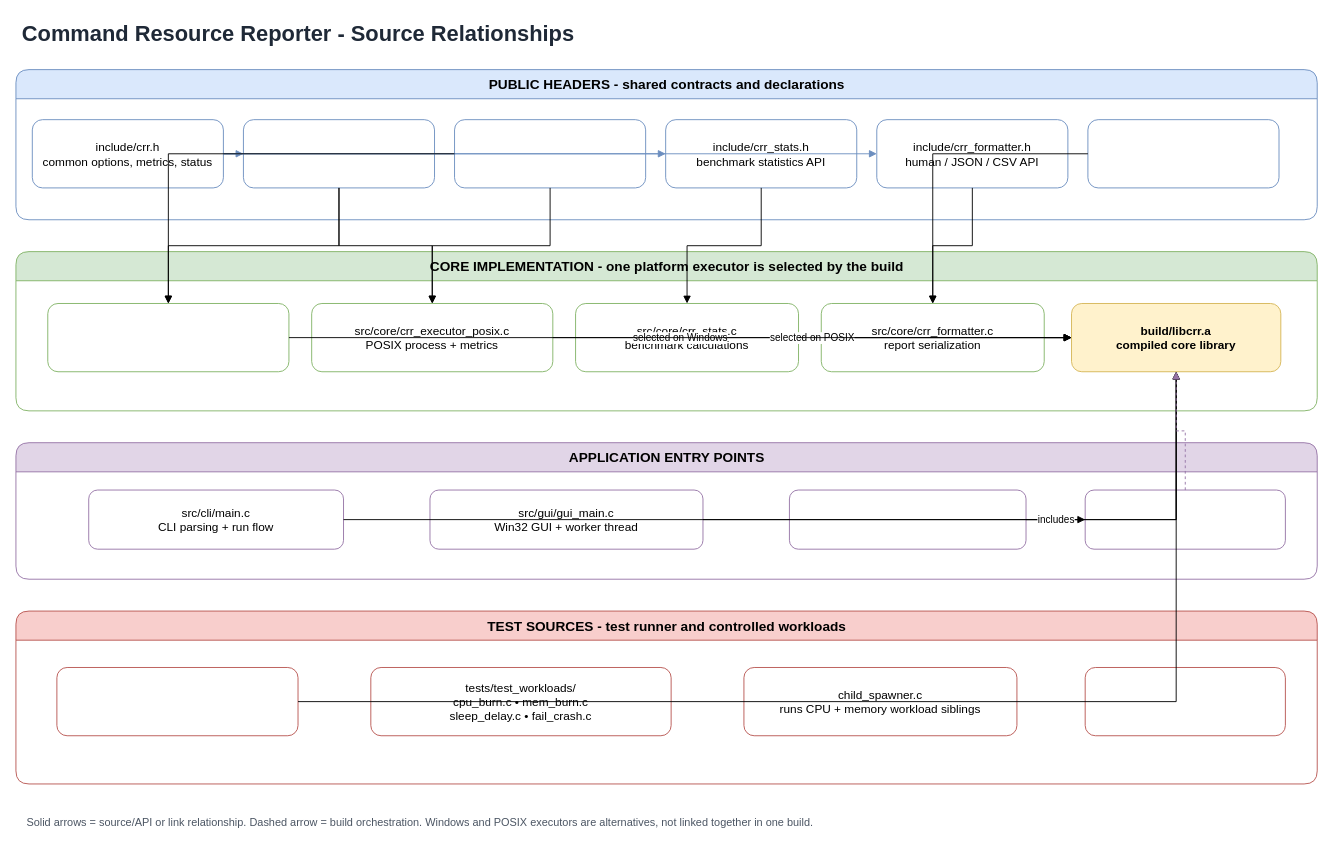
Image size: 1333x858. Some labels were removed from this diagram. Here are the shapes that lost their labels. From the top down, the box of each, then its label:
(243, 119, 435, 188): include/crr_executor.h execution API
(454, 119, 646, 188): include/crr_platform.h Windows / POSIX selection
(1087, 119, 1279, 188): include/crr_version.h version metadata
(47, 303, 289, 372): src/core/crr_executor_win.c Windows process + metrics
(789, 489, 1026, 549): src/gui/resource.rc embeds app.manifest
(1084, 489, 1285, 549): Makefile + build.bat select platform and build targets
(56, 667, 298, 736): tests/test_runner.c automated integration tests
(1084, 667, 1285, 736): run_tests.bat starts the test runner
